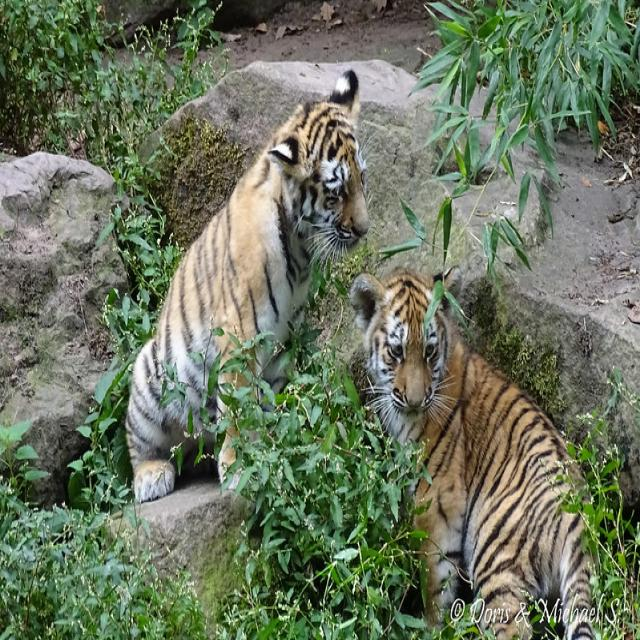Tiger: (120, 56, 375, 502), (338, 251, 590, 603)
